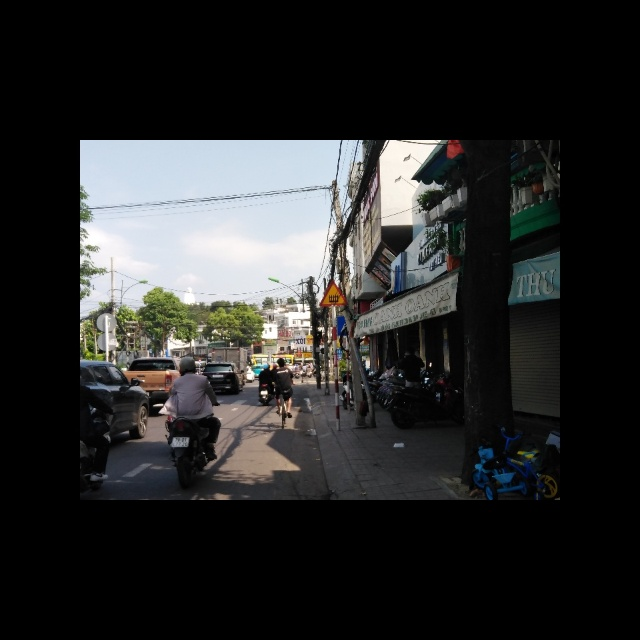Giao nhau với đường sắt có rào chắn: (319, 281, 350, 306)
